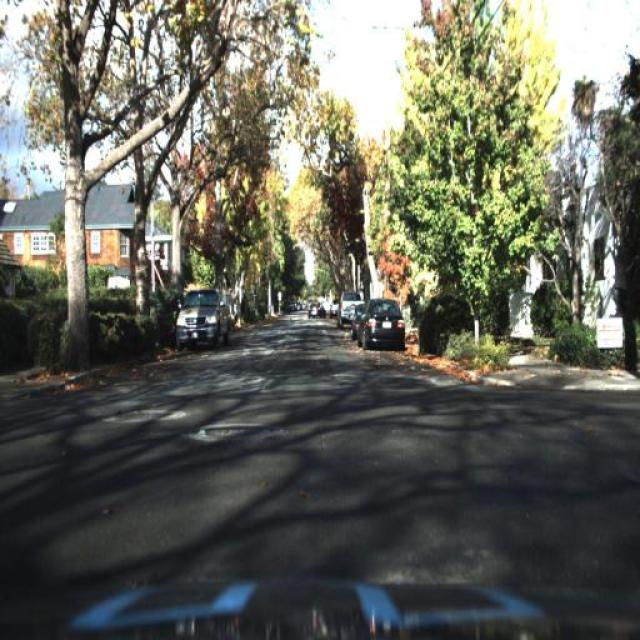car: (171, 286, 228, 343), (354, 298, 402, 348), (338, 293, 357, 328), (308, 296, 327, 318)
